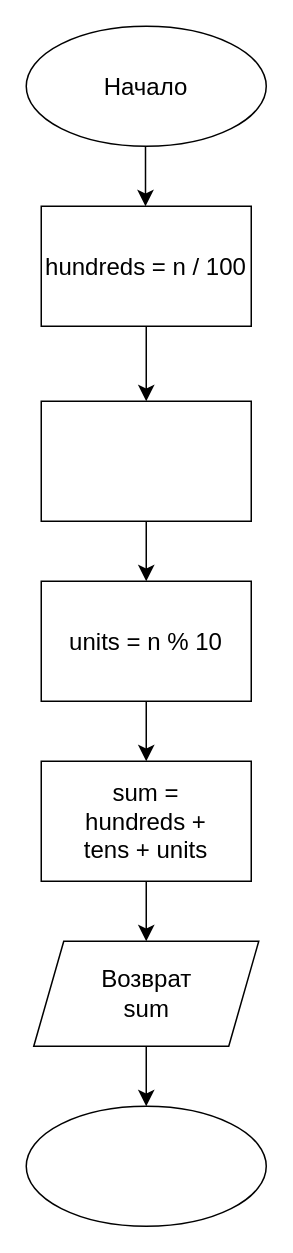
Some shapes in this 293 by 1253 pixel diagram are drawn without their labels. The shapes that lost their labels are listed below. From the top down, each one's centre as x and y in pixels, then its label:
At pixel 145 460: "tens = (n / 10) % 10".
At pixel 145 1165: "Конец".
